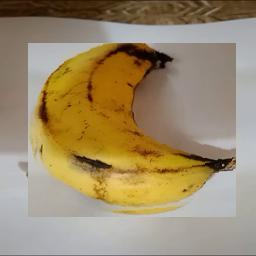Banana Semifresh: (29, 43, 237, 217)
